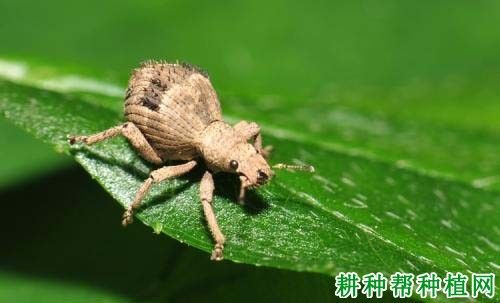Curculionidae: (64, 55, 315, 263)
